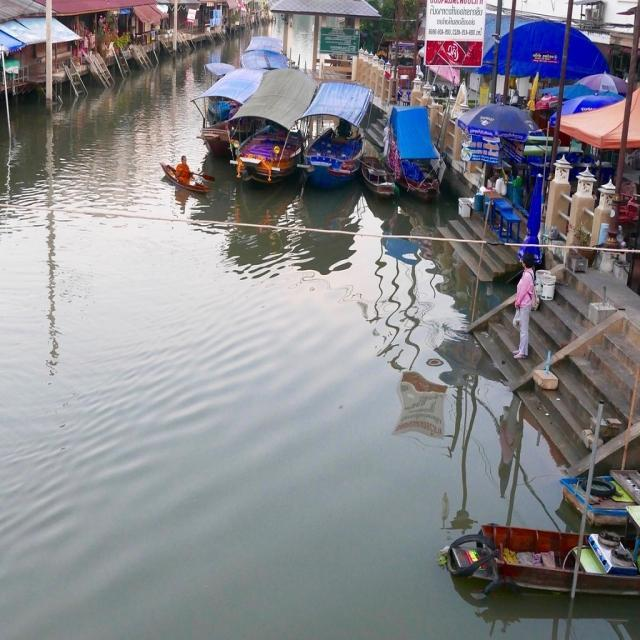boat: (299, 86, 359, 187), (383, 112, 445, 202), (154, 159, 214, 199), (354, 140, 391, 197)
